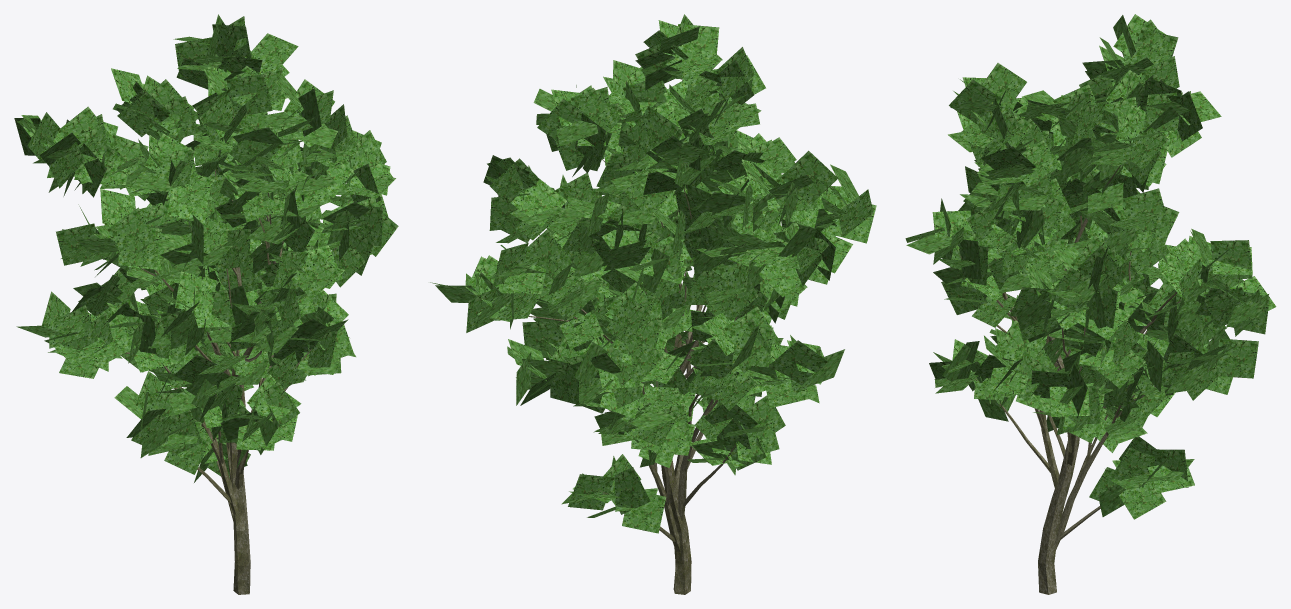
The model's file is new_tree.dae.
The picture shows the model from 3 angles, left to right: view 1: azimuth 30°, elevation 25°; view 2: azimuth 150°, elevation 25°; view 3: azimuth 270°, elevation 25°; orthographic projection. The views are drawn at different scales.
Parts seen in each view (by area): view 1: group_0, group_0.2433, group_0.2681, group_0.2479, group_0.2388, group_0.2697, group_0.2420, group_0.2768, group_0.2403, group_0.2166, group_0.2674, group_0.2072 (+57 smaller); view 2: group_0, group_0.2801, group_0.2069, group_0.2249, group_0.2303, group_0.2619, group_0.2149, group_0.1023, group_0.1932, group_0.2328, group_0.1972, group_0.2359 (+47 smaller); view 3: group_0, group_0.1979, group_0.2643, group_0.2615, group_0.2119, group_0.2334, group_0.2685, group_0.1929, group_0.2520, group_0.2253, group_0.1930, group_0.2341 (+53 smaller).
Boxes of the visible parts, x1=… form: group_0: x1=229, y1=267, x2=250, y2=594; group_0.2433: x1=107, y1=207, x2=155, y2=260; group_0.2681: x1=226, y1=74, x2=272, y2=114; group_0.2479: x1=291, y1=252, x2=340, y2=298; group_0.2388: x1=175, y1=271, x2=216, y2=316; group_0.2697: x1=251, y1=33, x2=298, y2=72; group_0.2420: x1=56, y1=223, x2=97, y2=265; group_0.2768: x1=117, y1=92, x2=170, y2=136; group_0.2403: x1=167, y1=183, x2=210, y2=223; group_0.2166: x1=220, y1=228, x2=250, y2=268; group_0.2674: x1=199, y1=94, x2=234, y2=143; group_0.2072: x1=49, y1=313, x2=84, y2=348; group_0: x1=661, y1=283, x2=691, y2=594; group_0.2801: x1=780, y1=150, x2=838, y2=204; group_0.2069: x1=771, y1=340, x2=828, y2=385; group_0.2249: x1=511, y1=178, x2=567, y2=226; group_0.2303: x1=605, y1=296, x2=650, y2=343; group_0.2619: x1=674, y1=24, x2=719, y2=66; group_0.2149: x1=713, y1=265, x2=758, y2=321; group_0.1023: x1=614, y1=467, x2=650, y2=514; group_0.1932: x1=568, y1=474, x2=614, y2=510; group_0.2328: x1=527, y1=229, x2=568, y2=281; group_0.1972: x1=522, y1=321, x2=562, y2=357; group_0.2359: x1=559, y1=312, x2=603, y2=348; group_0: x1=1038, y1=335, x2=1079, y2=594; group_0.1979: x1=1216, y1=338, x2=1258, y2=378; group_0.2643: x1=1122, y1=188, x2=1168, y2=234; group_0.2615: x1=982, y1=63, x2=1026, y2=114; group_0.2119: x1=994, y1=320, x2=1046, y2=368; group_0.2334: x1=1210, y1=240, x2=1252, y2=279; group_0.2685: x1=1122, y1=126, x2=1168, y2=169; group_0.1929: x1=1119, y1=482, x2=1166, y2=519; group_0.2520: x1=1019, y1=140, x2=1060, y2=187; group_0.2253: x1=1077, y1=245, x2=1124, y2=298; group_0.1930: x1=1111, y1=447, x2=1154, y2=487; group_0.2341: x1=1204, y1=287, x2=1247, y2=328.
Bounding box in the file's own units: 15.29 × 13.66 × 21.62.
